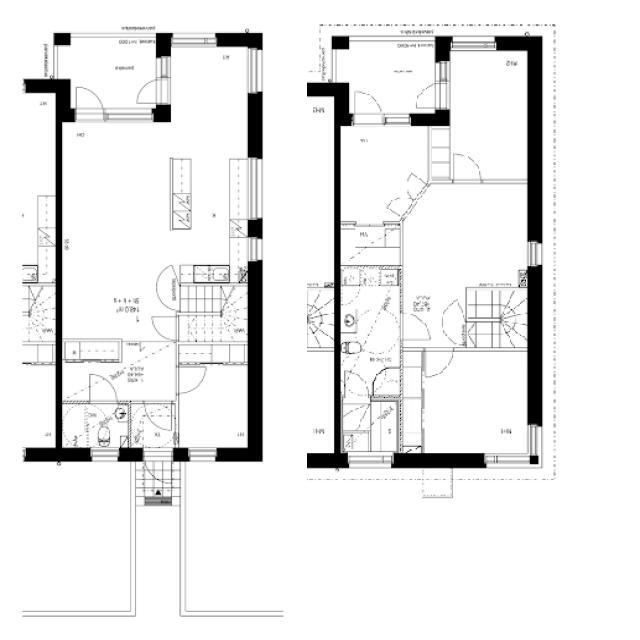door: (172, 354, 228, 426), (398, 308, 436, 345), (151, 267, 180, 314), (448, 148, 484, 185), (72, 82, 106, 121), (140, 450, 175, 486), (349, 86, 384, 122), (132, 76, 170, 107), (172, 363, 208, 395), (86, 373, 120, 406), (421, 347, 454, 380), (411, 81, 448, 110), (143, 402, 175, 433), (147, 313, 180, 342), (371, 366, 400, 398), (383, 193, 411, 220), (340, 284, 362, 304)
window: (242, 153, 268, 227), (445, 32, 501, 55), (244, 44, 266, 100), (166, 29, 223, 50), (478, 451, 535, 471), (102, 108, 155, 126), (344, 454, 398, 471), (478, 172, 532, 188), (525, 422, 546, 460), (526, 238, 546, 271), (184, 446, 220, 463), (380, 110, 414, 128), (84, 448, 124, 463), (246, 235, 266, 265), (342, 218, 390, 229), (155, 54, 172, 79), (434, 58, 451, 82)
zone: (56, 123, 178, 371), (166, 44, 251, 271), (400, 180, 535, 289), (415, 348, 535, 460), (446, 44, 532, 181), (337, 123, 427, 223), (175, 342, 252, 454), (338, 280, 402, 366), (60, 401, 130, 450), (334, 223, 402, 270), (371, 366, 401, 398)
